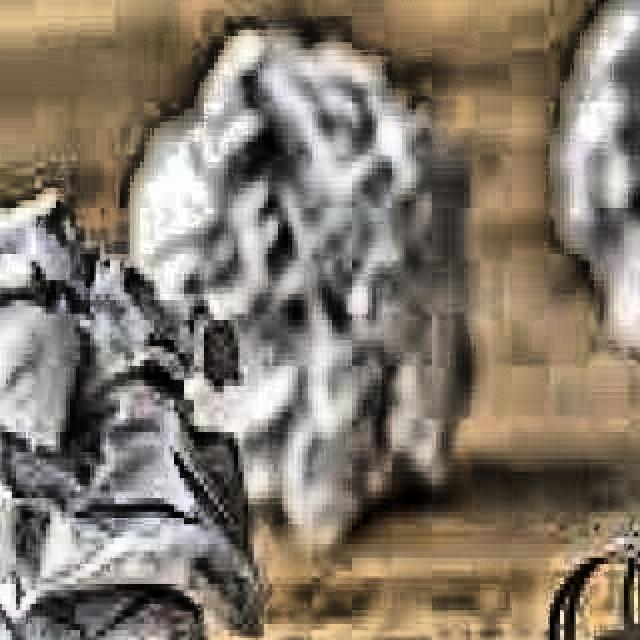paper: (120, 24, 476, 544), (0, 176, 258, 640), (546, 0, 640, 372)
